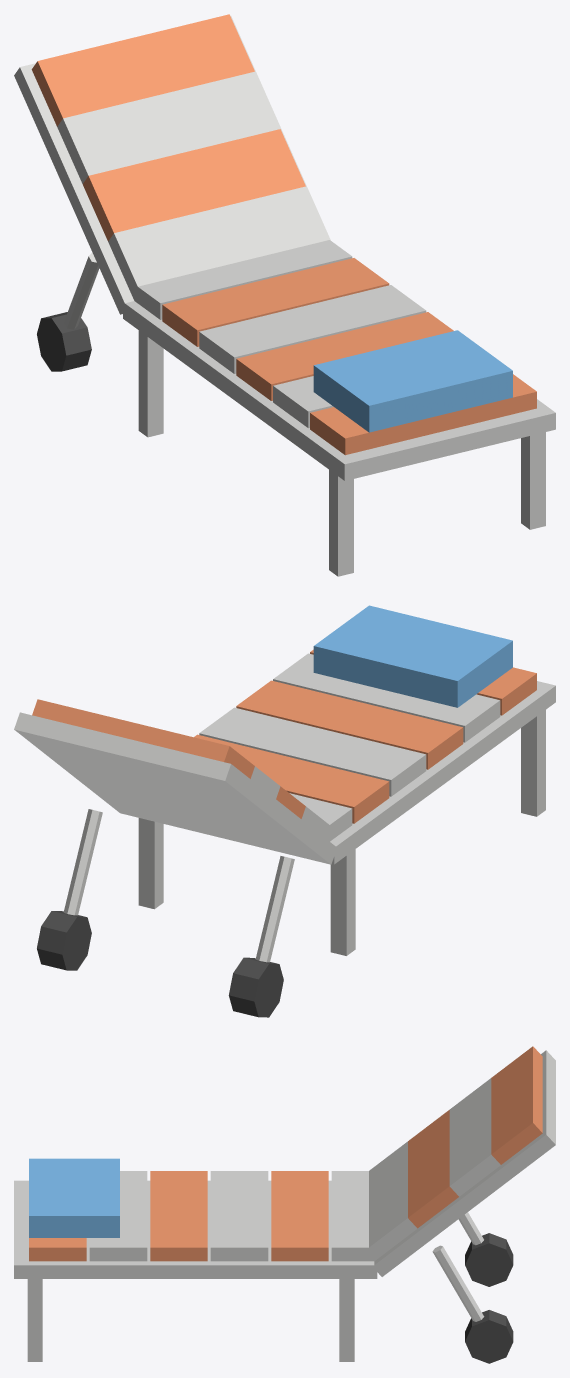
Rendered from HJ_Tumbona.fbx.
3 renders of one model, top to bottom at view 1: azimuth 30°, elevation 25°; view 2: azimuth 150°, elevation 25°; view 3: azimuth 270°, elevation 25°, orthographic. The views are drawn at different scales.
Visible parts, largest first — view 1: HJ_Tumbona; view 2: HJ_Tumbona; view 3: HJ_Tumbona.
Part boxes in pixels (x1=…): HJ_Tumbona: x1=14, y1=14, x2=555, y2=576; HJ_Tumbona: x1=14, y1=605, x2=555, y2=1017; HJ_Tumbona: x1=14, y1=1046, x2=555, y2=1363.
Size of the model in its own units: 0.68 by 0.8599 by 1.79.
